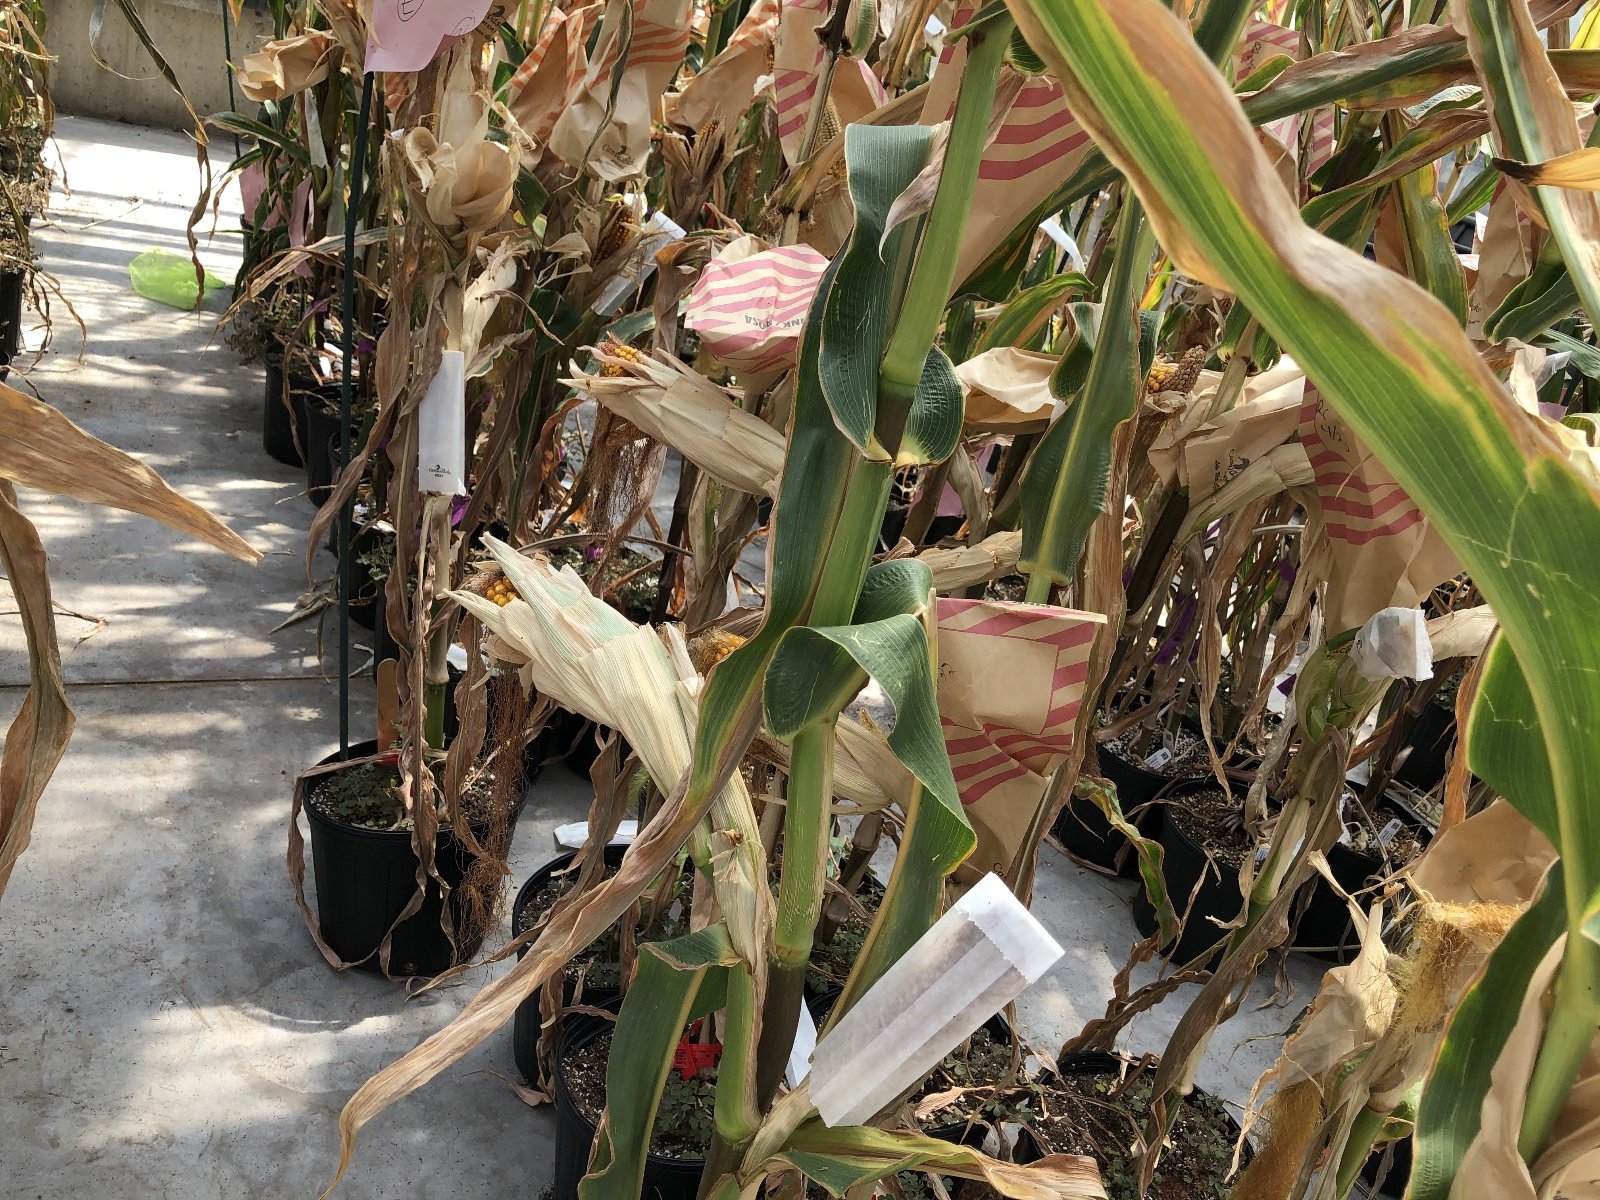ear: (450, 547, 689, 755), (693, 629, 905, 805), (583, 333, 796, 492), (1146, 334, 1208, 402), (678, 105, 736, 166), (598, 193, 646, 258)
